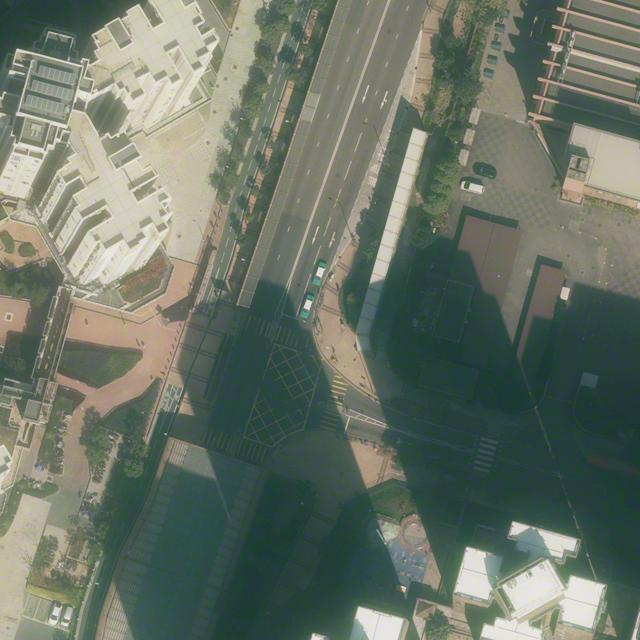panel: (29, 79, 74, 101), (37, 64, 77, 85), (25, 95, 65, 115)
